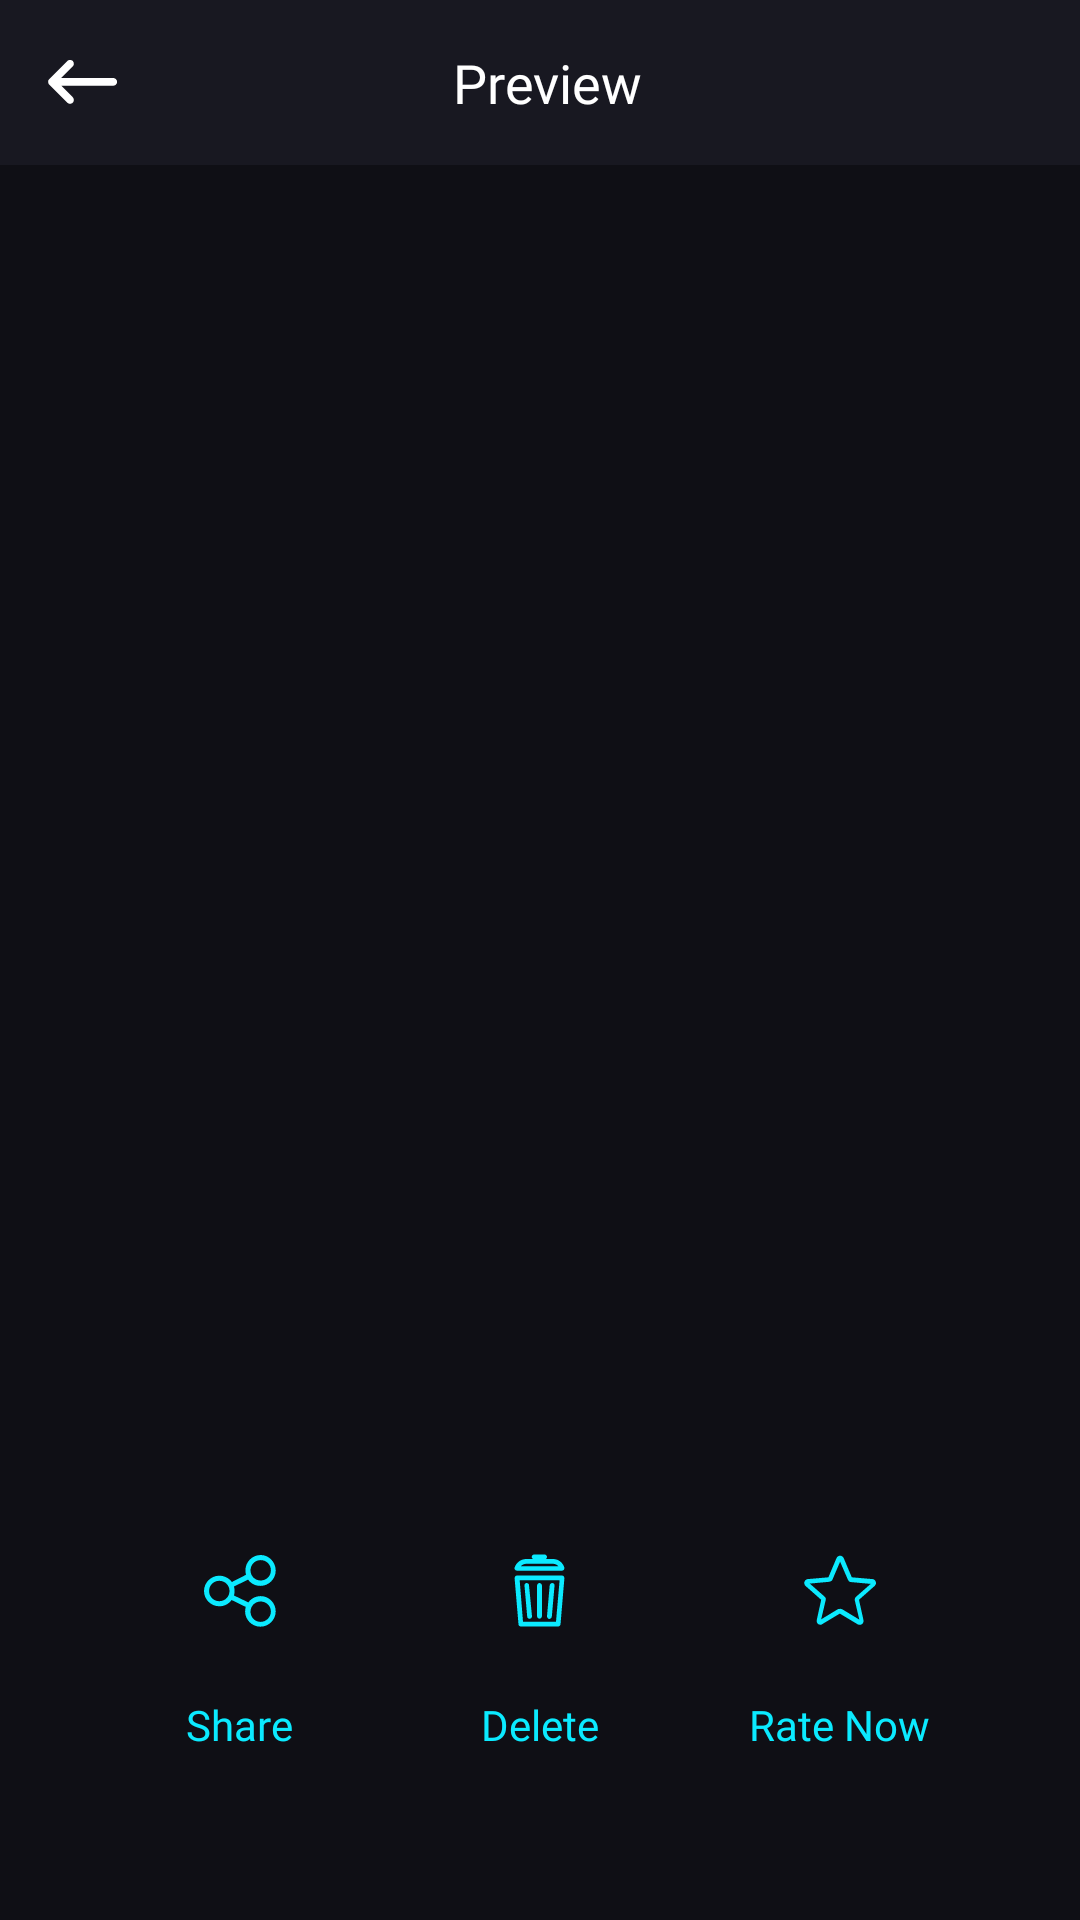

Icons on this 1080 x 1920 Android screen, each with its box as BBox(x1, y1, x2, y2):
back: BBox(48, 60, 117, 104)
star: BBox(804, 1555, 876, 1625)
